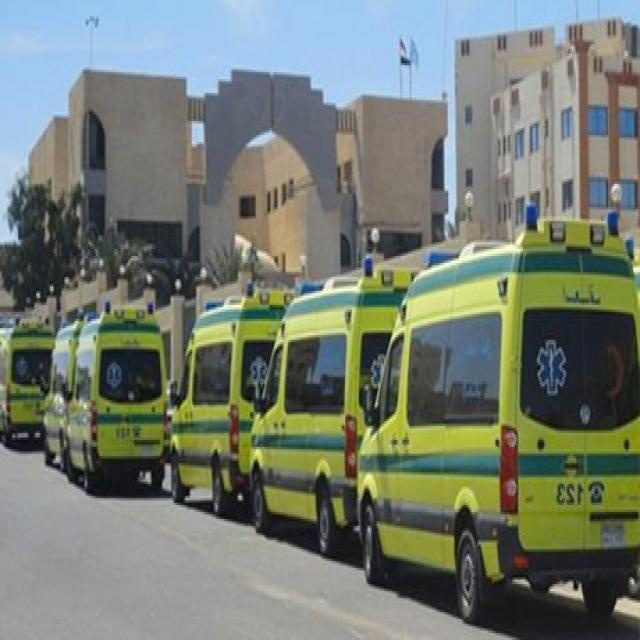Ambulance: (356, 202, 640, 622), (251, 252, 429, 556), (170, 277, 299, 517), (63, 298, 171, 491), (1, 314, 56, 447), (43, 314, 88, 468), (2, 312, 22, 433)
